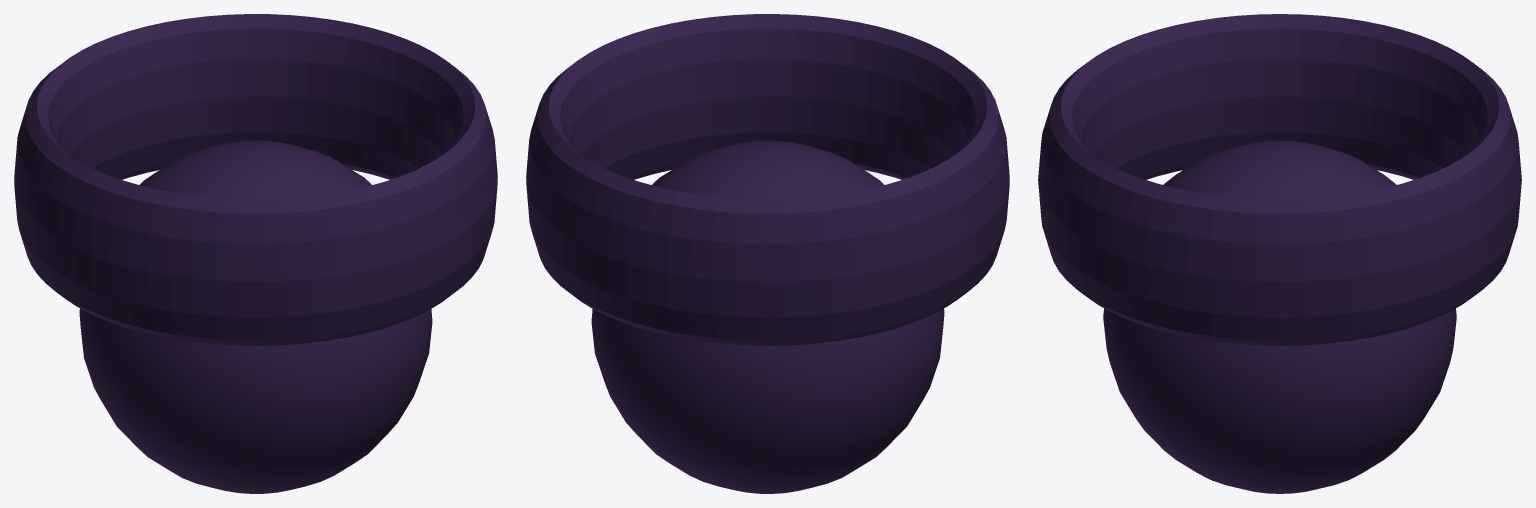
File: SM_Keeper_OverlordEcho_Bowl.fbx
The picture shows the model from 3 angles, left to right: view 1: azimuth 30°, elevation 25°; view 2: azimuth 150°, elevation 25°; view 3: azimuth 270°, elevation 25°; orthographic projection.
Parts seen in each view (by area): view 1: SM_Keeper_OverlordEcho_Bowl; view 2: SM_Keeper_OverlordEcho_Bowl; view 3: SM_Keeper_OverlordEcho_Bowl.
Part boxes in pixels (box(x1,y1,x2,y2)): SM_Keeper_OverlordEcho_Bowl: box(14, 14, 497, 493); SM_Keeper_OverlordEcho_Bowl: box(526, 14, 1009, 493); SM_Keeper_OverlordEcho_Bowl: box(1038, 14, 1521, 493).
Size of the model in its own units: 2.74 by 2.31 by 2.74.
